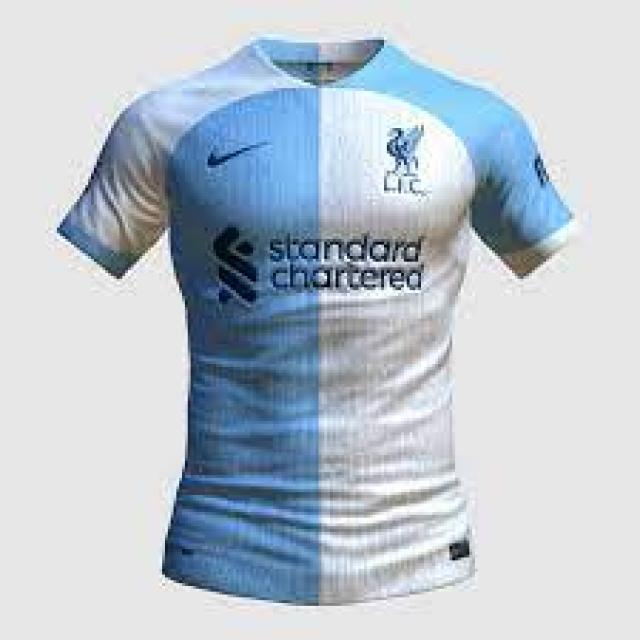Nike: (206, 141, 272, 168)
Standard Chartered: (207, 220, 428, 306)
